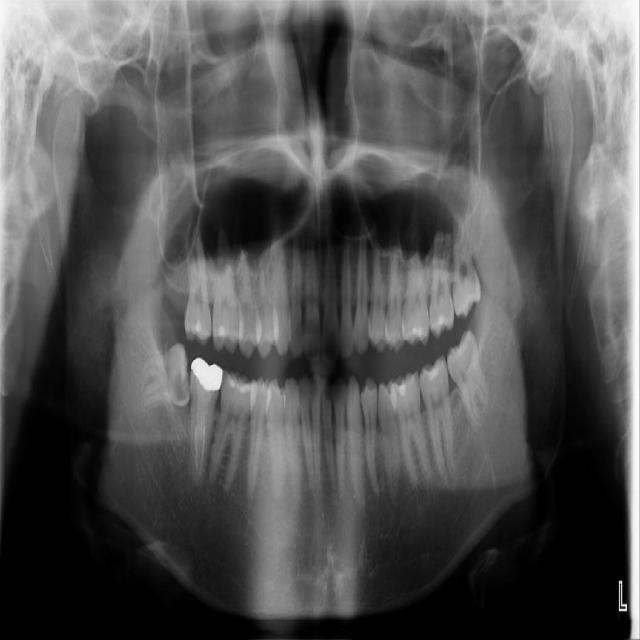52: (215, 370, 260, 420), (187, 349, 231, 398), (387, 370, 426, 425), (416, 354, 453, 411), (182, 294, 216, 344), (211, 304, 244, 353), (427, 286, 456, 339), (401, 296, 430, 347)
73: (190, 370, 220, 485), (550, 549, 560, 572)
BioHorizons Implant: (423, 222, 457, 340)
BioLife Implant: (448, 206, 482, 320)
Biomet 3i Implant: (439, 327, 494, 429)
Blue Sky Bio Implant: (418, 353, 458, 488)
Caries: (181, 236, 213, 347)
Implant: (188, 356, 223, 485)
Keystone Dental Implant: (133, 341, 194, 412)
